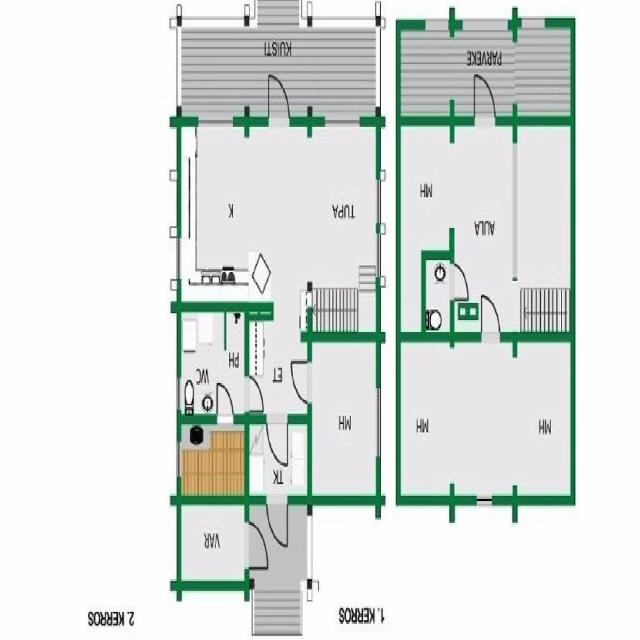door: (266, 414, 288, 472), (245, 522, 270, 570), (474, 69, 495, 126), (268, 71, 289, 127), (266, 496, 287, 551), (289, 361, 312, 403), (481, 292, 500, 342), (450, 263, 471, 299), (217, 377, 233, 423), (245, 375, 265, 410)
